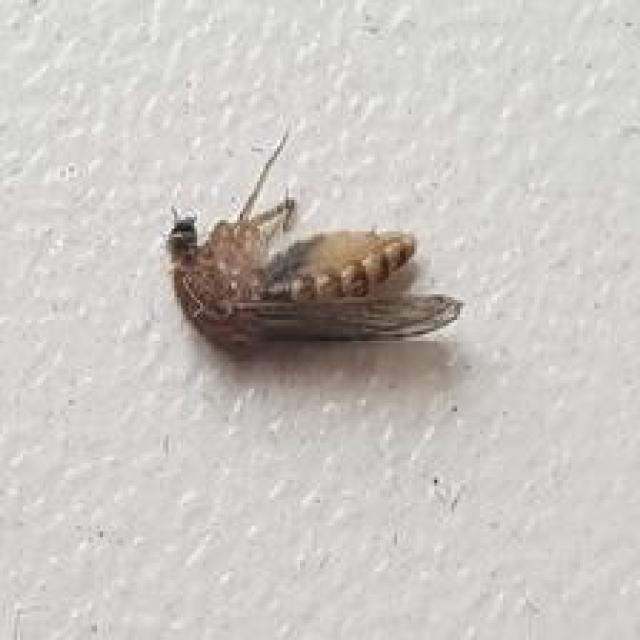Culex: (162, 124, 464, 356)
